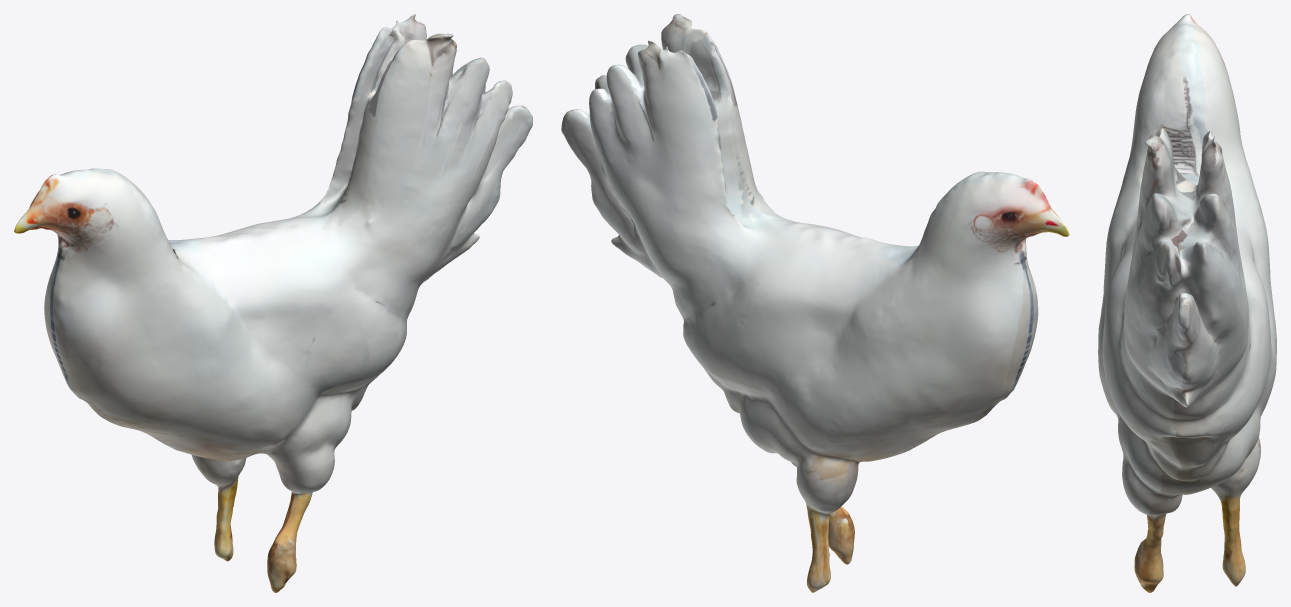
File: joven.glb
The picture shows the model from 3 angles, left to right: view 1: azimuth 30°, elevation 25°; view 2: azimuth 150°, elevation 25°; view 3: azimuth 270°, elevation 25°; orthographic projection. The views are drawn at different scales.
Visible parts, largest first — view 1: mesh; view 2: mesh; view 3: mesh.
Part boxes in pixels (x1,y1,x2,y2): mesh: (14,14,532,592); mesh: (561,14,1069,592); mesh: (1098,14,1276,592).
Bounding box in the file's own units: 1.75 × 1.67 × 0.501.
Materials: 1 (1 with a texture image).
